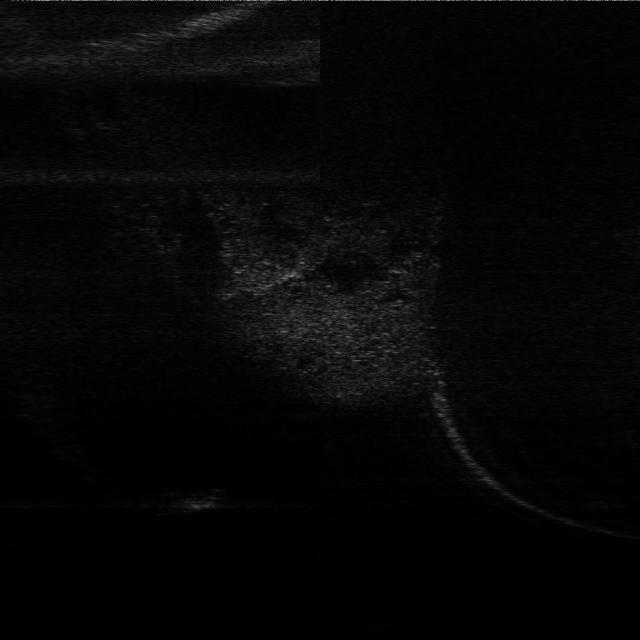square cage: (173, 479, 232, 515)
